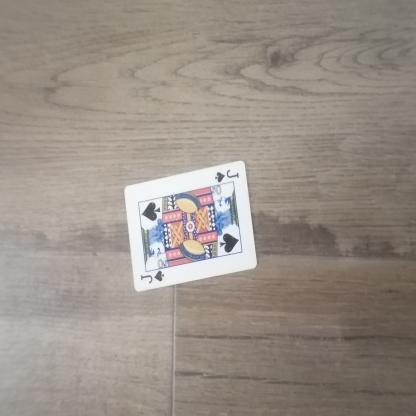JS: (134, 262, 172, 290), (209, 163, 242, 191)
